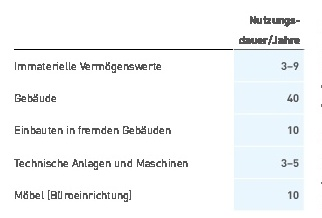table: (0, 0, 322, 218)
